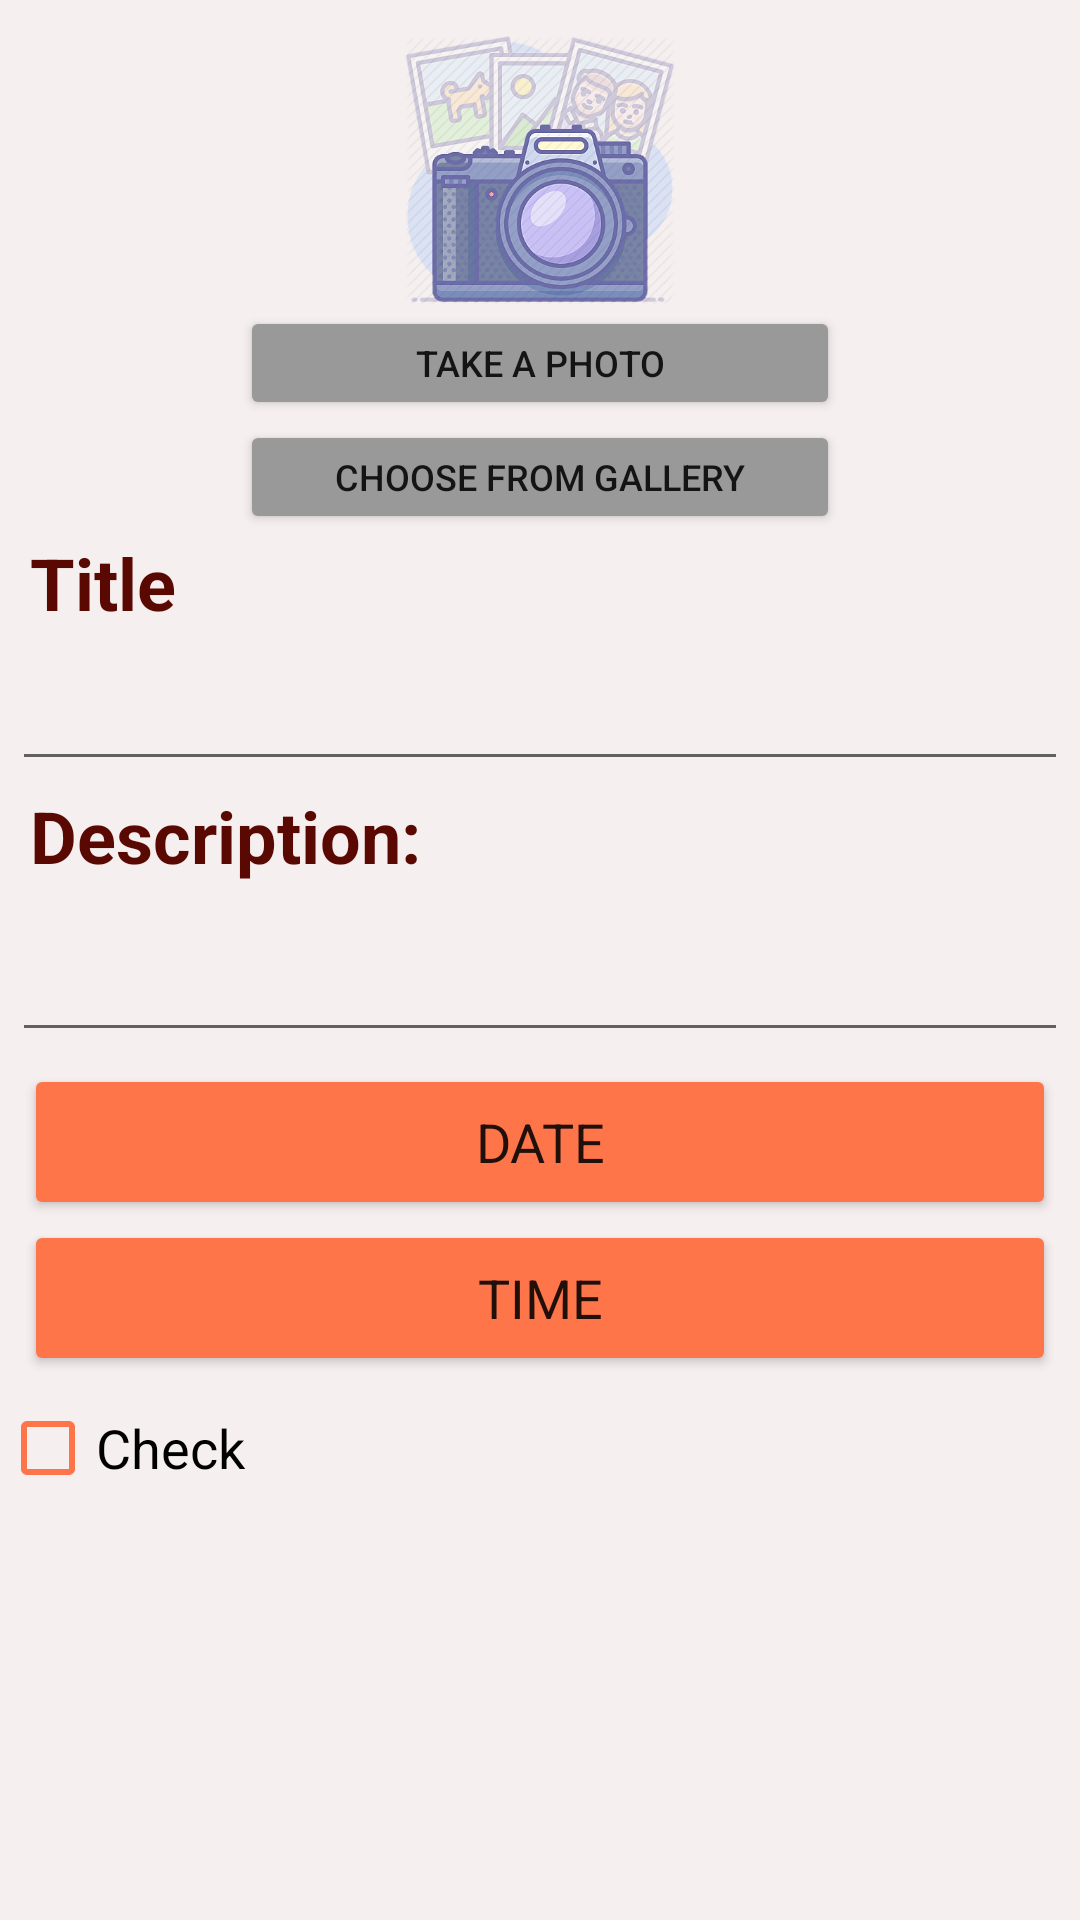

Named icons in this screenshot (1080 × 1920) and their centers, [x,y]:
camera: [539,169]
